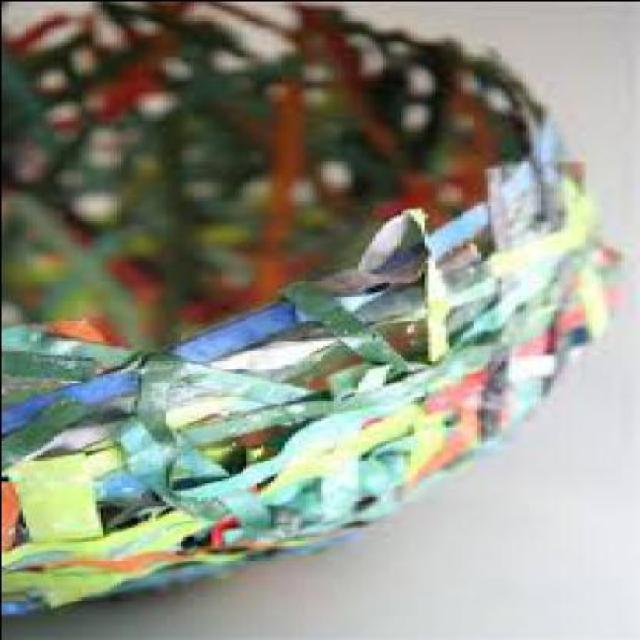PAPER: (2, 2, 623, 616)
